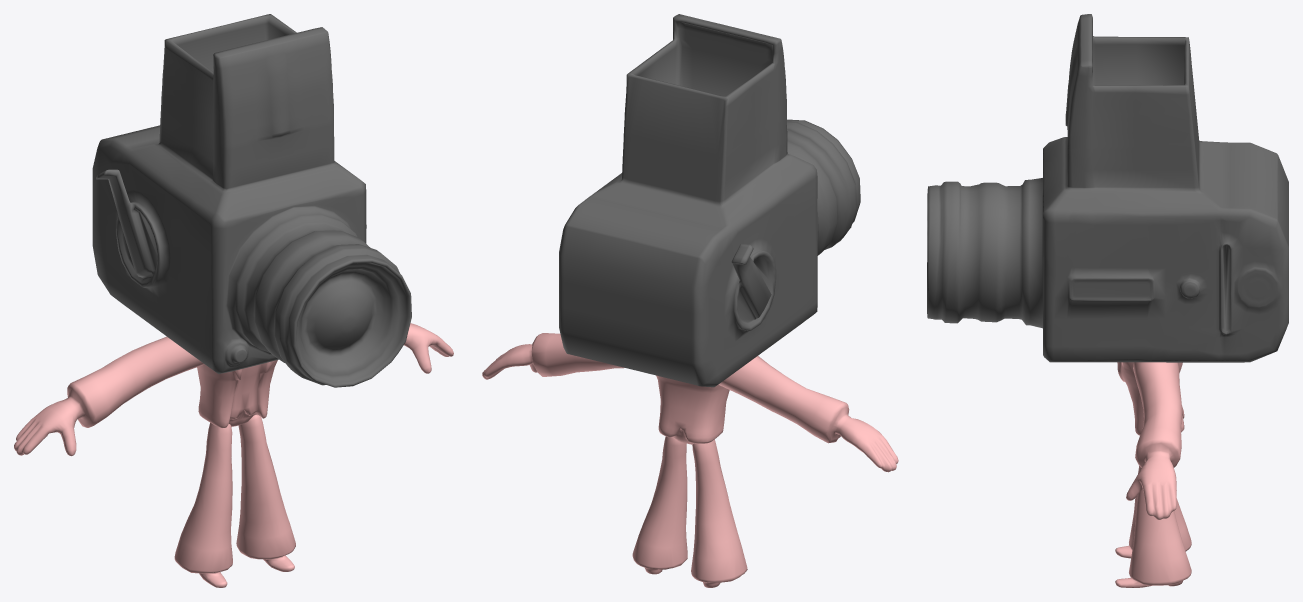
The picture shows the model from 3 angles, left to right: view 1: azimuth 30°, elevation 25°; view 2: azimuth 150°, elevation 25°; view 3: azimuth 270°, elevation 25°; orthographic projection. The views are drawn at different scales.
Parts seen in each view (by area): view 1: head_retopo, arm_retopo, leg_retopo, leg_retopo_2, torso_retopo, arm_retopo_2; view 2: head_retopo, arm_retopo, leg_retopo, leg_retopo_2, torso_retopo, arm_retopo_2; view 3: head_retopo, arm_retopo_2, leg_retopo_2, torso_retopo, leg_retopo.
Boxes of the visible parts, <box> form: head_retopo: <box>92,14,411,387</box>; arm_retopo: <box>14,336,203,456</box>; leg_retopo: <box>174,422,232,587</box>; leg_retopo_2: <box>236,415,295,571</box>; torso_retopo: <box>197,360,277,428</box>; arm_retopo_2: <box>404,323,453,373</box>; head_retopo: <box>559,14,860,387</box>; arm_retopo: <box>718,356,898,472</box>; leg_retopo: <box>691,439,747,587</box>; leg_retopo_2: <box>632,436,687,574</box>; torso_retopo: <box>656,375,729,444</box>; arm_retopo_2: <box>482,333,624,379</box>; head_retopo: <box>927,14,1288,362</box>; arm_retopo_2: <box>1126,362,1182,519</box>; leg_retopo_2: <box>1115,489,1191,587</box>; torso_retopo: <box>1117,362,1184,435</box>; leg_retopo: <box>1115,466,1191,558</box>.
Bounding box in the file's own units: 570 × 691 × 427.
